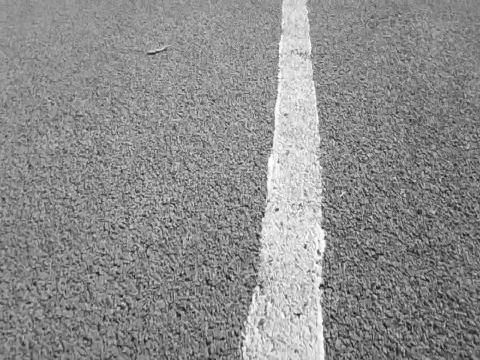Lines: (240, 0, 322, 360)
